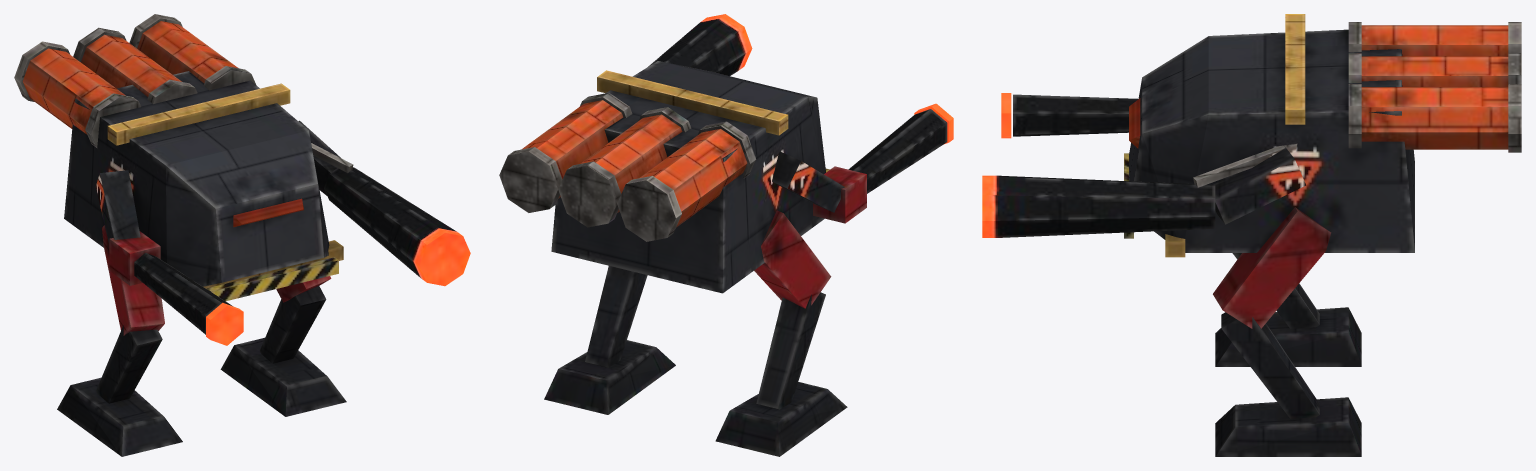
Rendered from u_pyro3_e.glb.
The picture shows the model from 3 angles, left to right: view 1: azimuth 30°, elevation 25°; view 2: azimuth 150°, elevation 25°; view 3: azimuth 270°, elevation 25°; orthographic projection. The views are drawn at different scales.
Visible parts, largest first — view 1: u_pyro3_e; view 2: u_pyro3_e; view 3: u_pyro3_e.
Boxes of the visible parts, x1,y1,x2,y2 form: u_pyro3_e: (14, 14, 470, 456); u_pyro3_e: (499, 14, 953, 456); u_pyro3_e: (982, 14, 1521, 456).
Size of the model in its own units: 1.2 by 1.38 by 1.97.
1 material, 1 textured.
